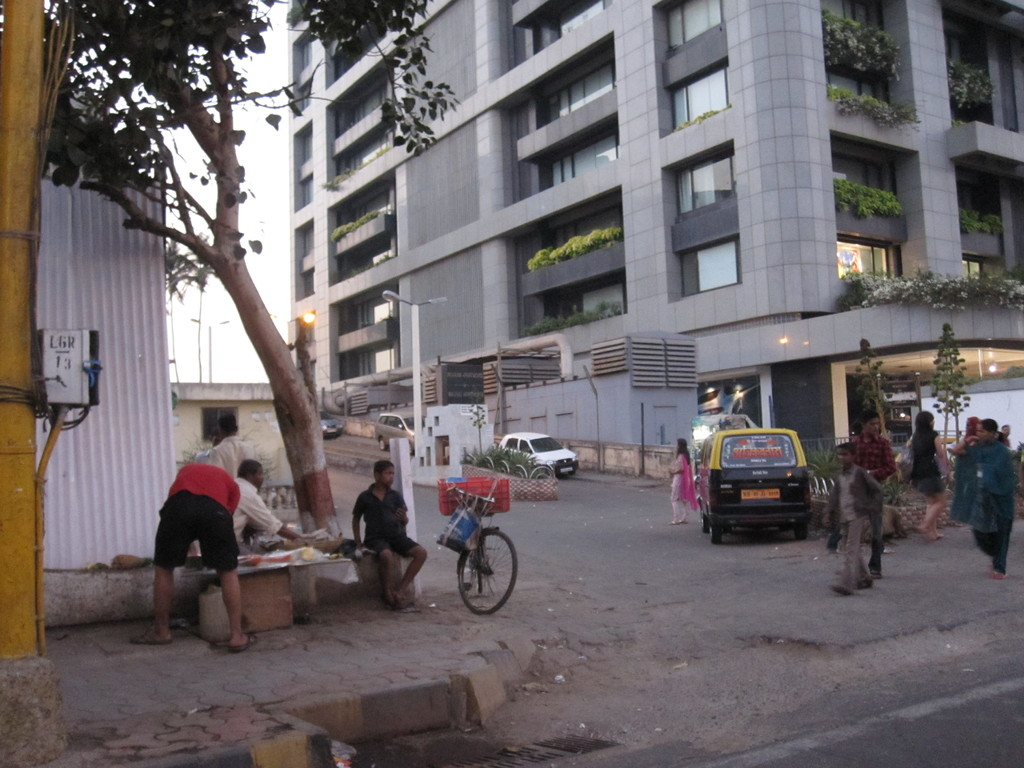cars: (694, 425, 816, 544), (504, 434, 582, 478), (374, 409, 440, 453), (318, 409, 345, 437)
